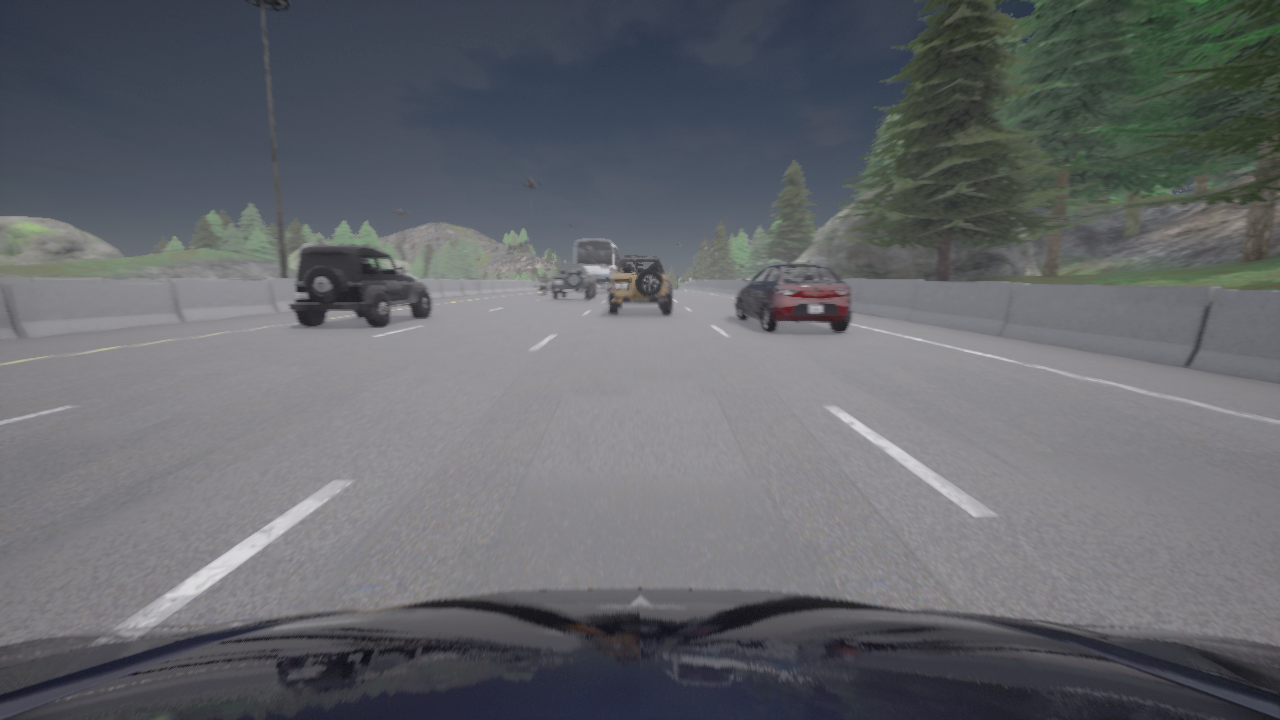cyclist: (0, 588, 1279, 719), (288, 245, 430, 325), (735, 263, 850, 331), (608, 255, 671, 314), (573, 238, 621, 291), (550, 264, 595, 299), (540, 280, 546, 294)
